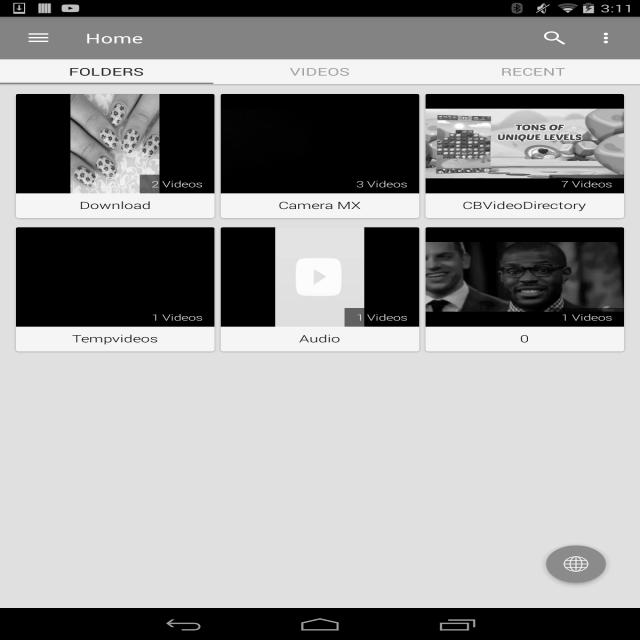ImageButton: (533, 533, 619, 595), (9, 17, 68, 59)
ImageView: (426, 242, 624, 312), (221, 109, 419, 178), (426, 109, 624, 178), (70, 227, 160, 327), (70, 94, 160, 193), (275, 227, 364, 327)
TextView: (457, 198, 592, 213), (580, 22, 632, 54), (529, 22, 580, 54), (549, 308, 624, 327), (140, 308, 214, 327), (345, 308, 419, 327), (273, 198, 366, 213), (66, 332, 164, 346), (549, 175, 624, 193), (140, 175, 214, 193), (345, 175, 419, 193), (74, 198, 156, 213), (69, 64, 144, 79), (85, 29, 143, 47), (501, 64, 565, 79), (289, 64, 350, 79), (294, 332, 345, 346), (515, 332, 534, 346)
